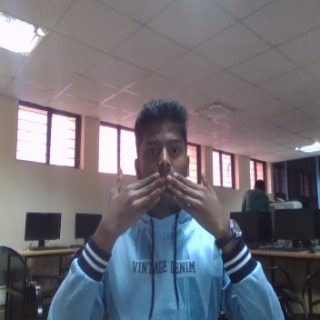Thank You: (90, 169, 232, 243)
